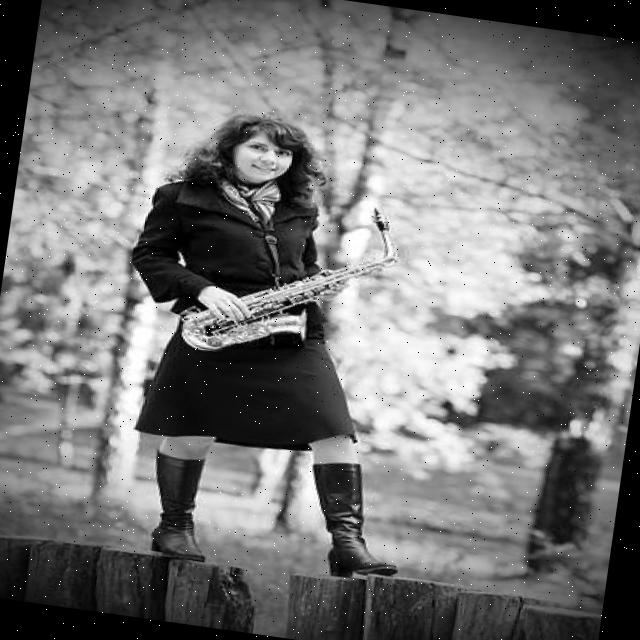saxophone: (170, 182, 408, 378)
